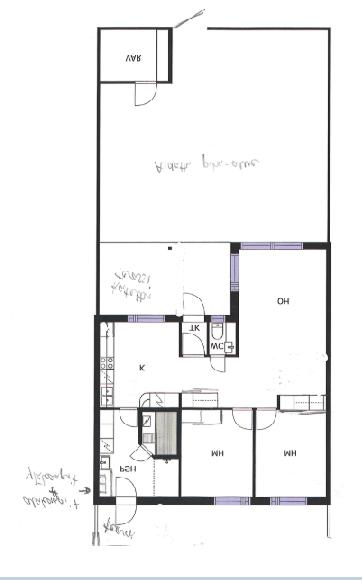door: (112, 474, 140, 504), (114, 494, 139, 526), (179, 292, 205, 322), (180, 332, 207, 358), (230, 405, 255, 432), (134, 80, 158, 106), (254, 406, 278, 432), (130, 444, 152, 466), (119, 404, 139, 428), (210, 355, 228, 374)
window: (265, 490, 313, 510), (235, 240, 309, 252), (123, 310, 173, 326), (227, 250, 242, 297), (209, 494, 252, 509), (206, 315, 230, 324)
